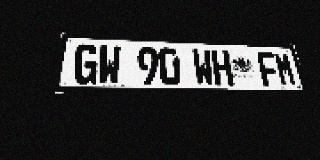0: (158, 47, 181, 85)
9: (138, 46, 160, 85)
F: (256, 51, 281, 86)
G: (73, 44, 98, 85)
H: (211, 49, 234, 86)
M: (273, 52, 298, 86)
W: (97, 45, 121, 85), (192, 49, 215, 86)
